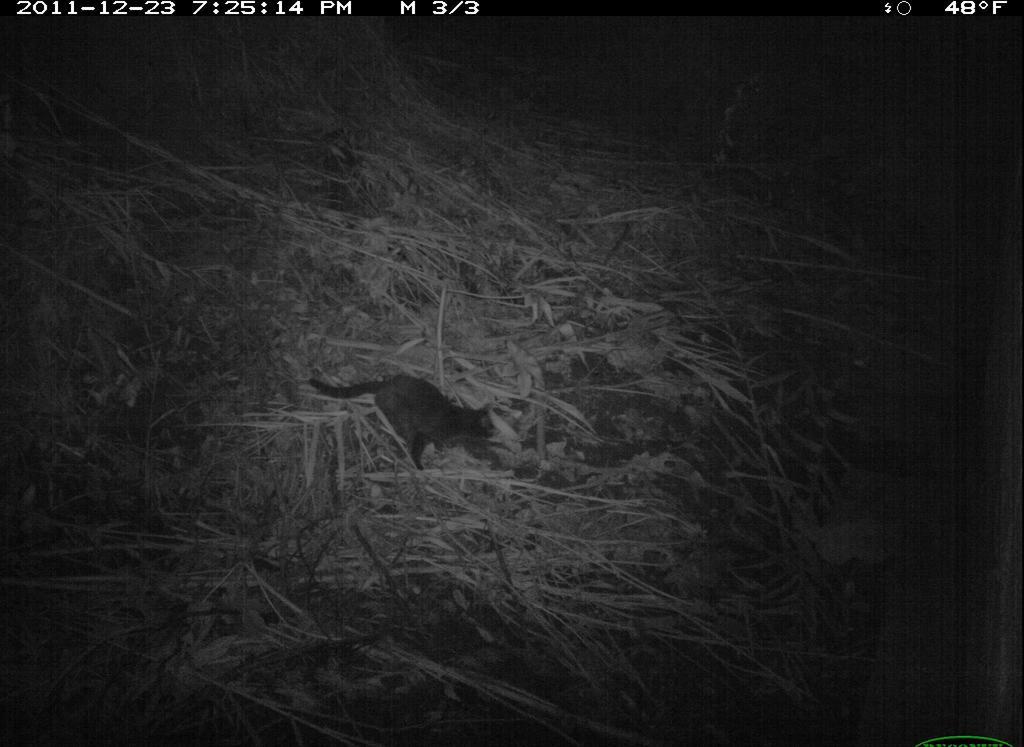cat: (303, 360, 510, 478)
